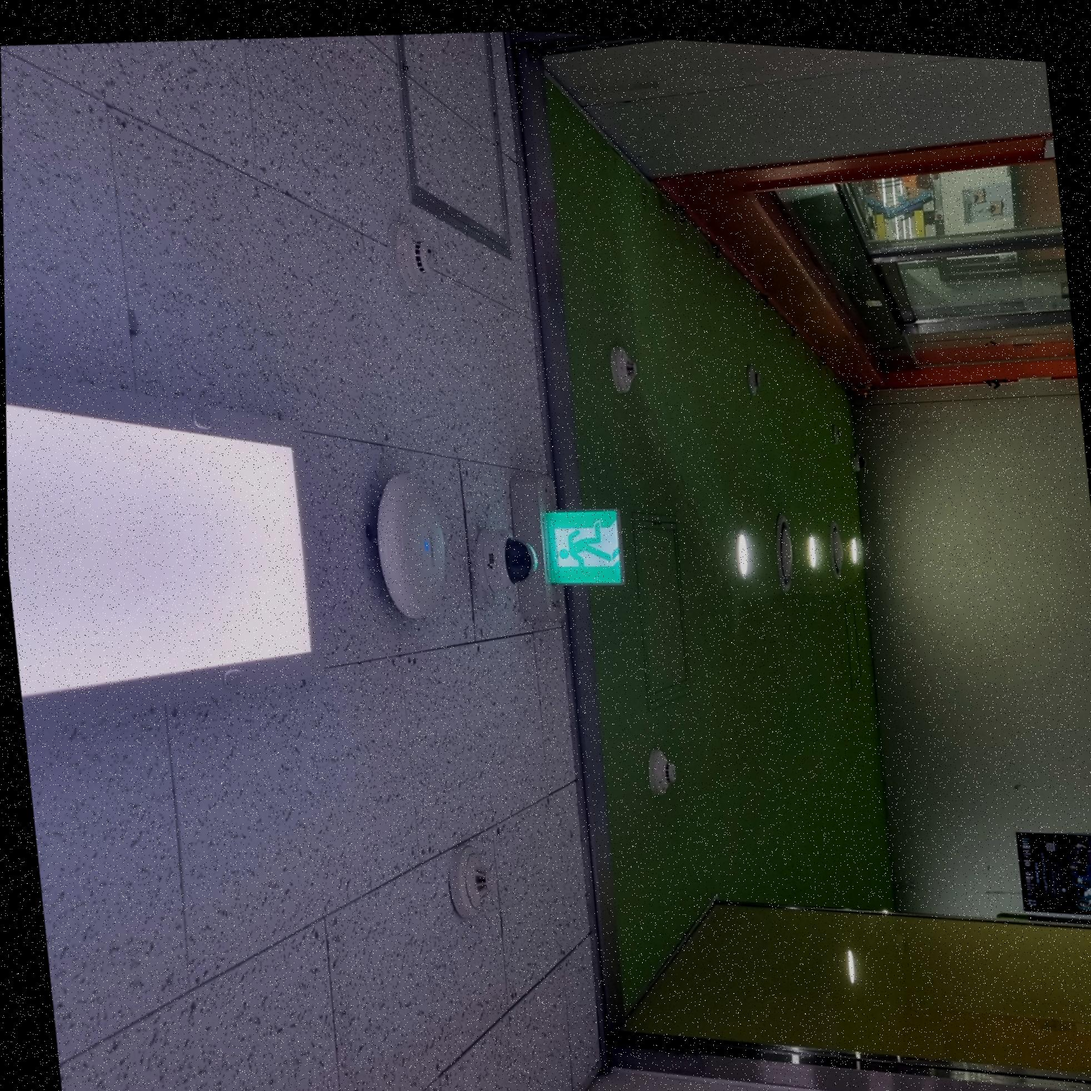emergency_exit: (541, 506, 625, 587)
